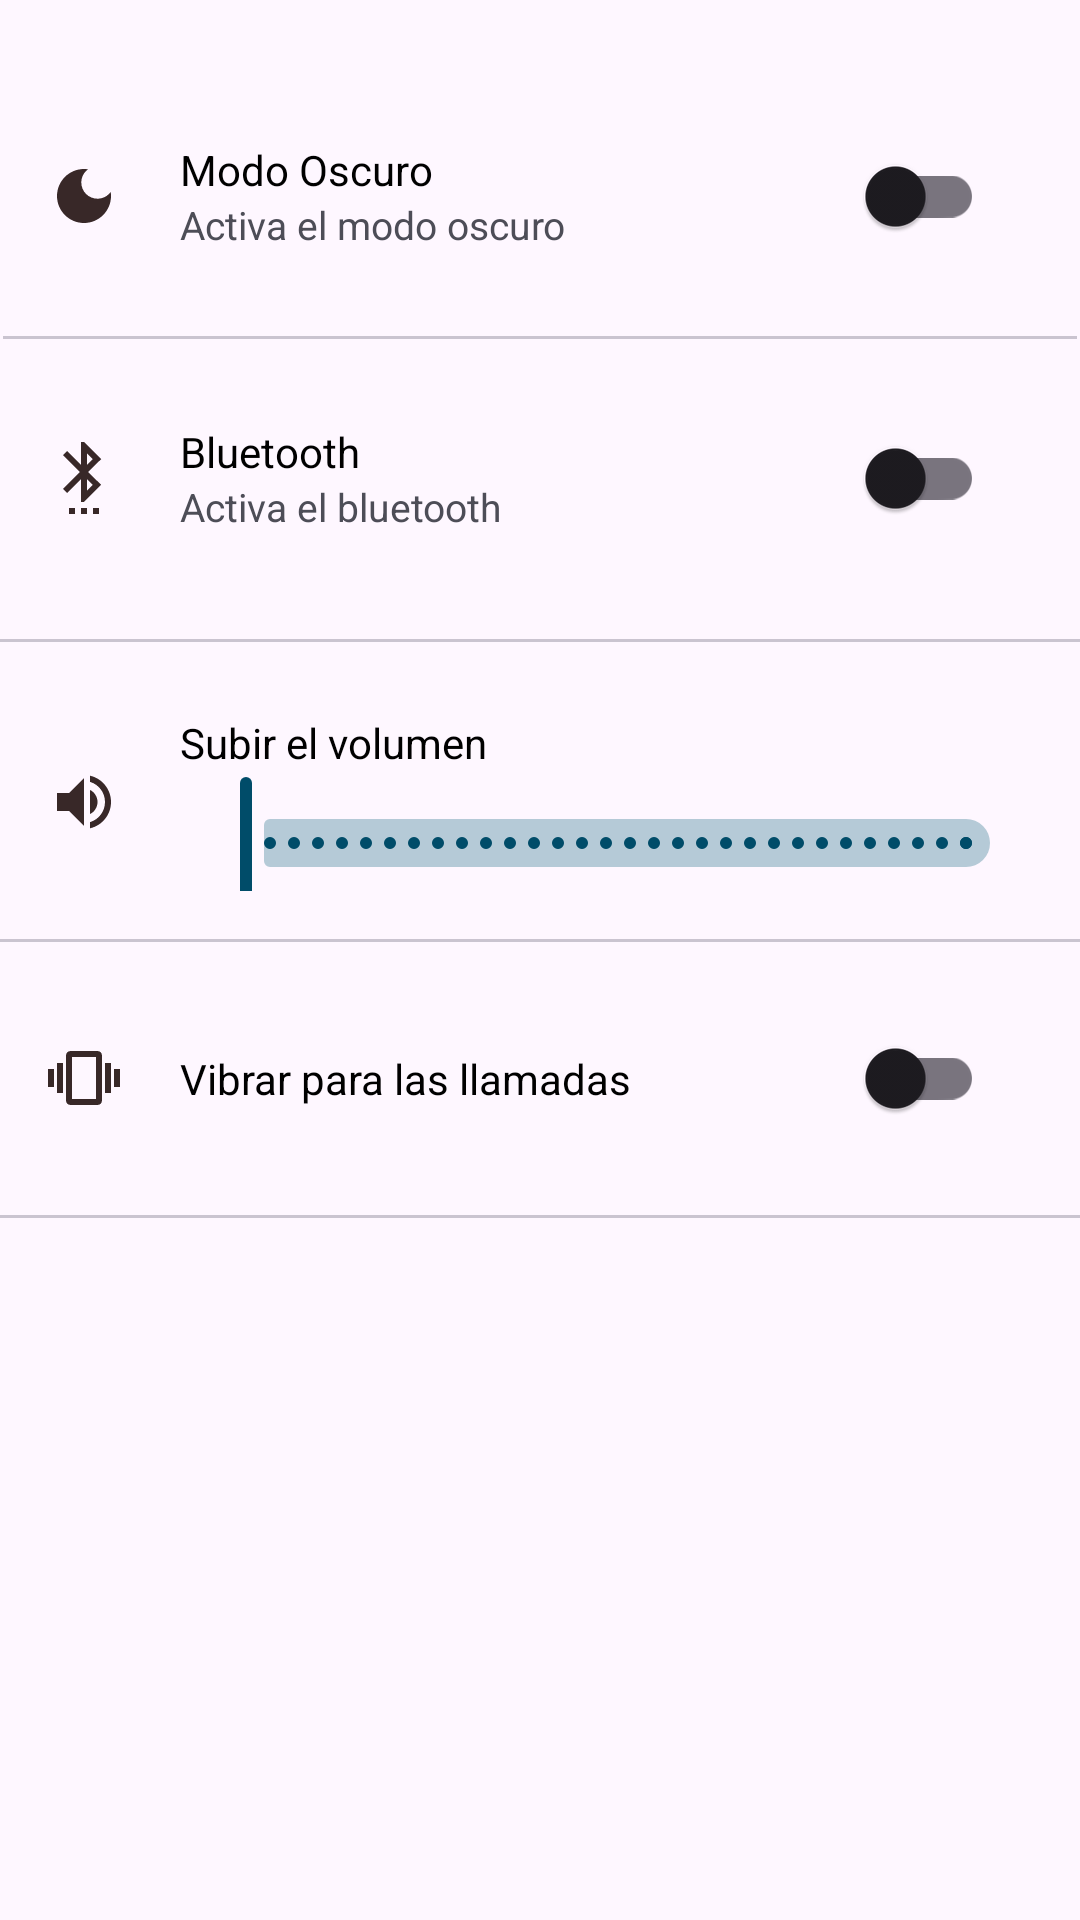

Named icons in this screenshot (1080px×1920px) and their centers, (x,y):
darkmode: (84,196)
vibration: (84,1078)
